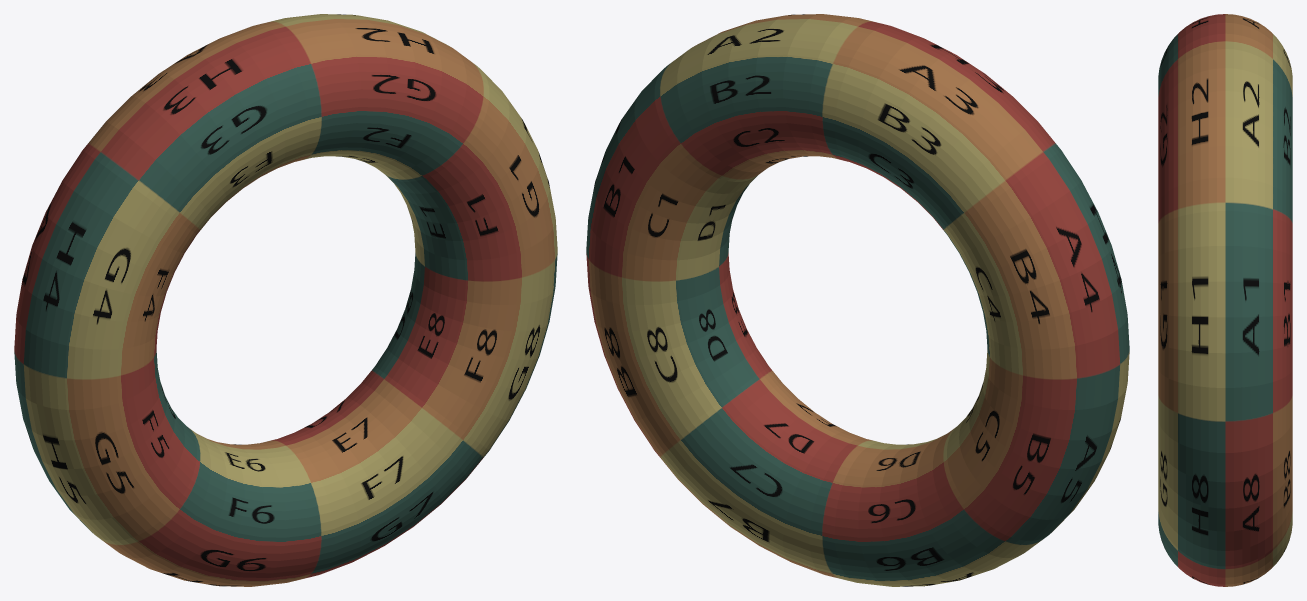
File: texture_torus_R26_r24.glb
3 views of the same model, side by side, from view 1: azimuth 30°, elevation 25°; view 2: azimuth 150°, elevation 25°; view 3: azimuth 270°, elevation 25° (orthographic). The views are drawn at different scales.
Parts seen in each view (by area): view 1: world; view 2: world; view 3: world.
Part boxes in pixels (x1,y1,x2,y2): world: [14, 14, 557, 586]; world: [586, 14, 1129, 586]; world: [1158, 14, 1292, 586].
Bounding box in the file's own units: 35.73 × 35.66 × 8.38.
1 material, 1 textured.
